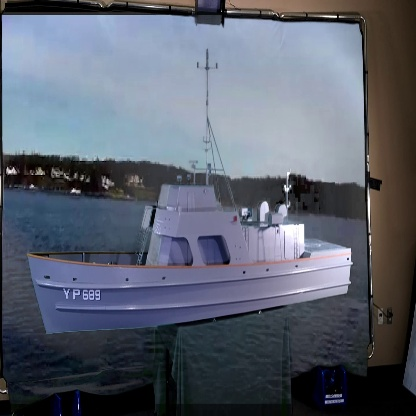YP689: (27, 46, 354, 335)
